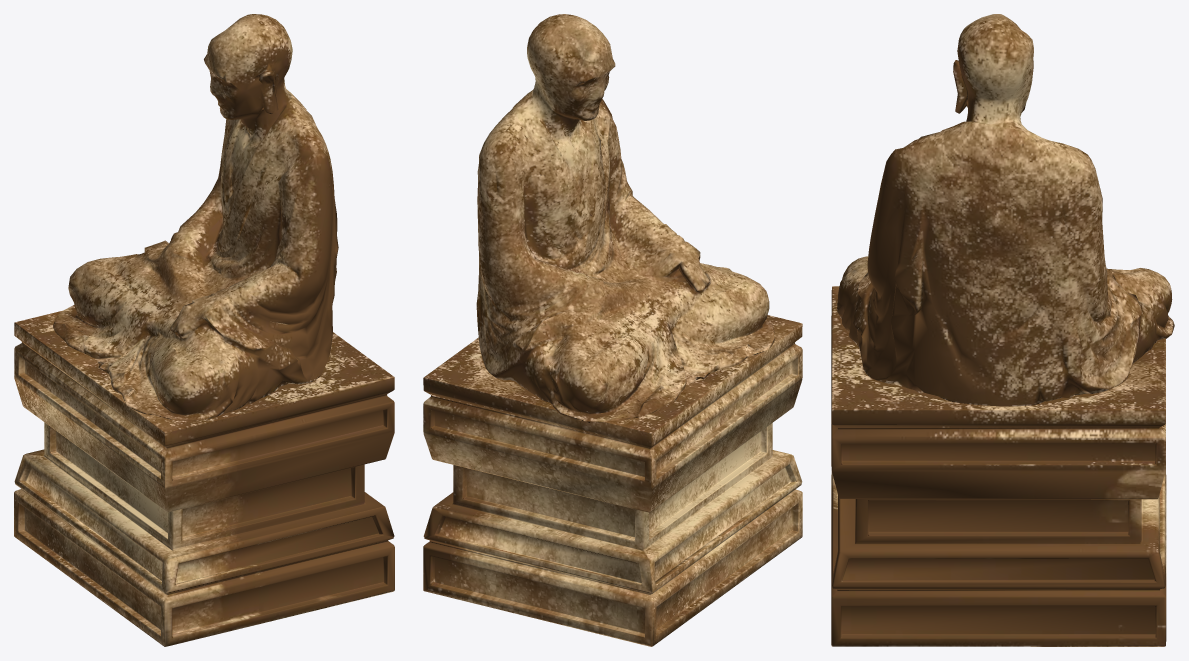
Rendered from arhat-cti-3.glb.
3 views of the same model, side by side, from view 1: azimuth 30°, elevation 25°; view 2: azimuth 150°, elevation 25°; view 3: azimuth 270°, elevation 25° (orthographic). The views are drawn at different scales.
Parts seen in each view (by area): view 1: arhat-cti-3-low; view 2: arhat-cti-3-low; view 3: arhat-cti-3-low.
Part boxes in pixels (x1,y1,x2,y2): arhat-cti-3-low: (14,14,394,646); arhat-cti-3-low: (423,14,802,646); arhat-cti-3-low: (831,14,1174,646).
Bounding box in the file's own units: 0.4522 × 0.9998 × 0.526.
1 material, 1 textured.
